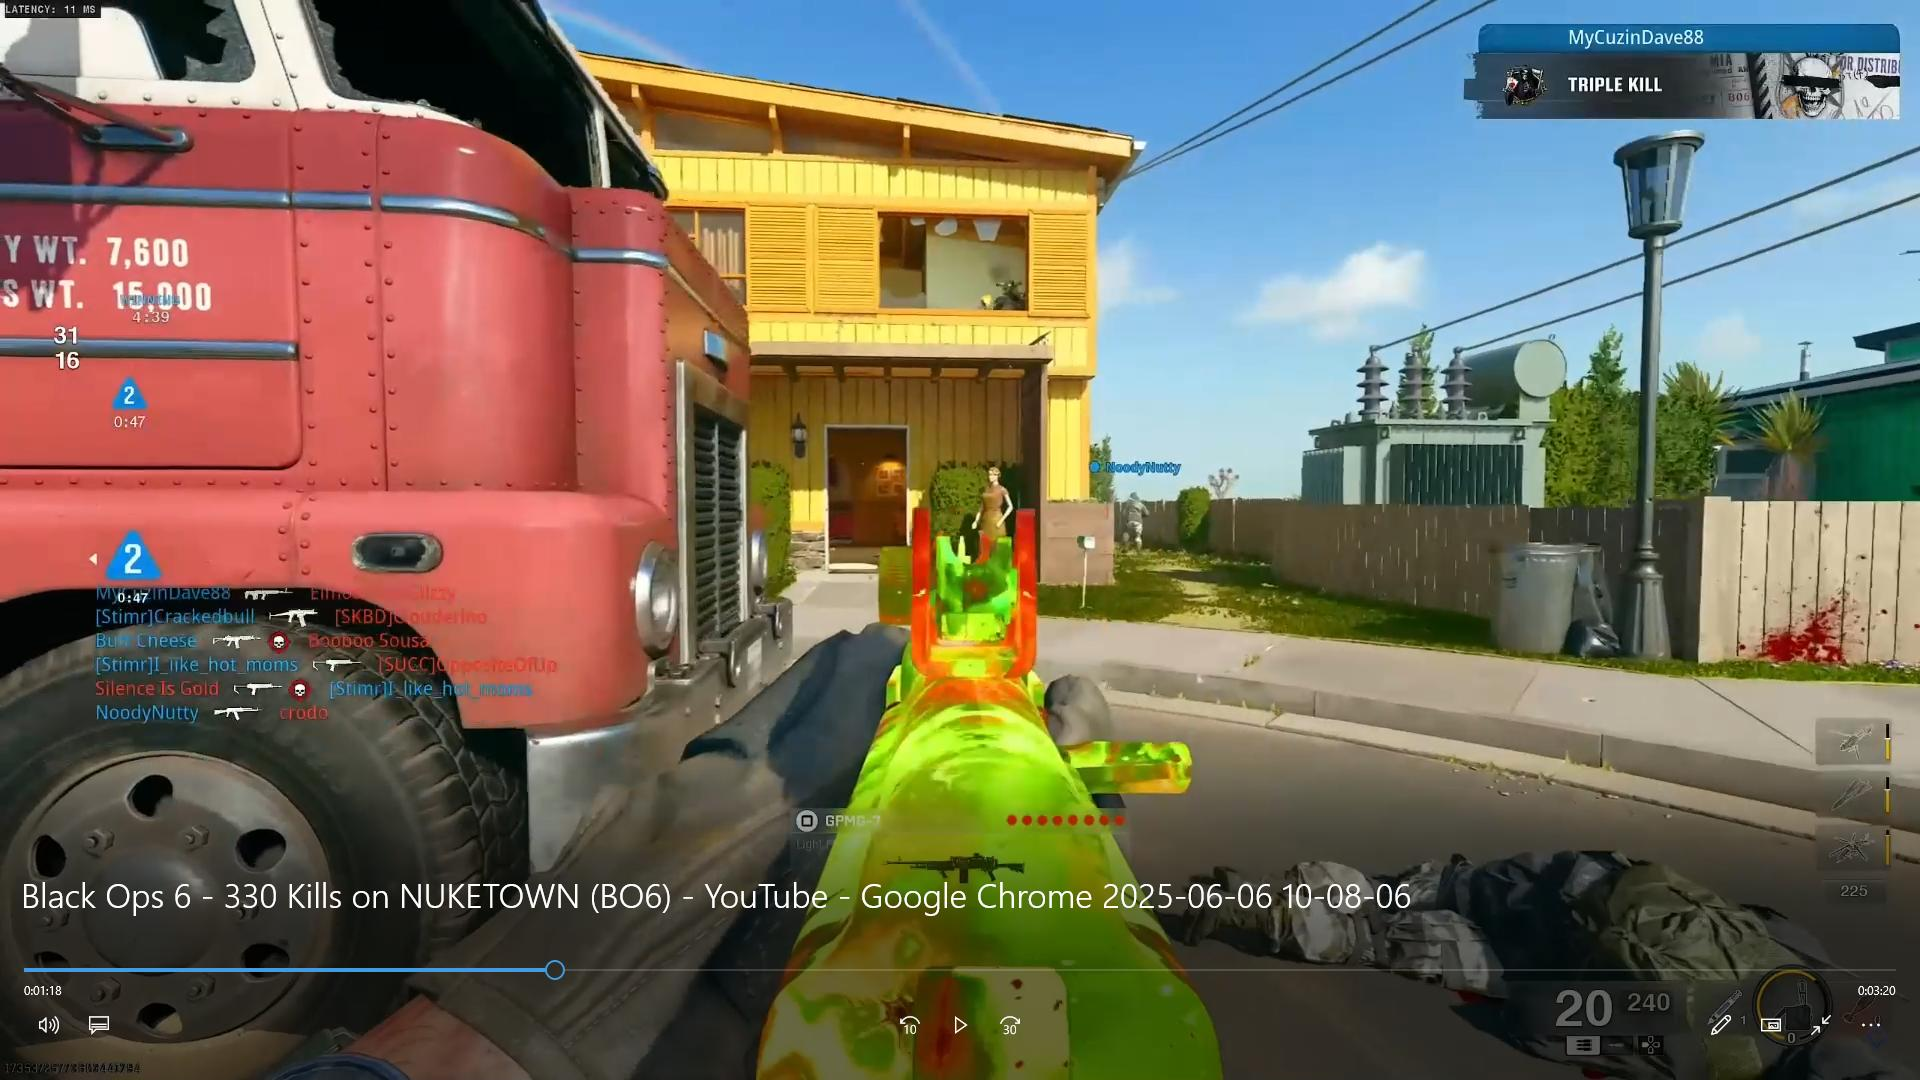Enemy: (1113, 487, 1160, 556)
